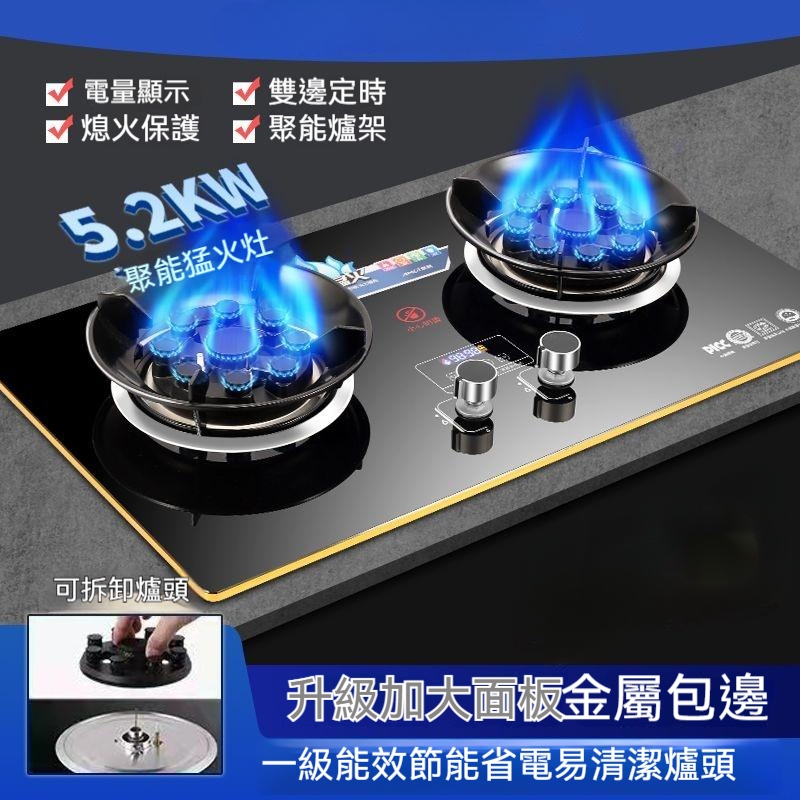gasoven: (3, 137, 800, 605)
